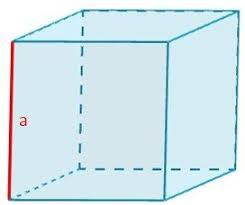cubos: (4, 5, 242, 205)
